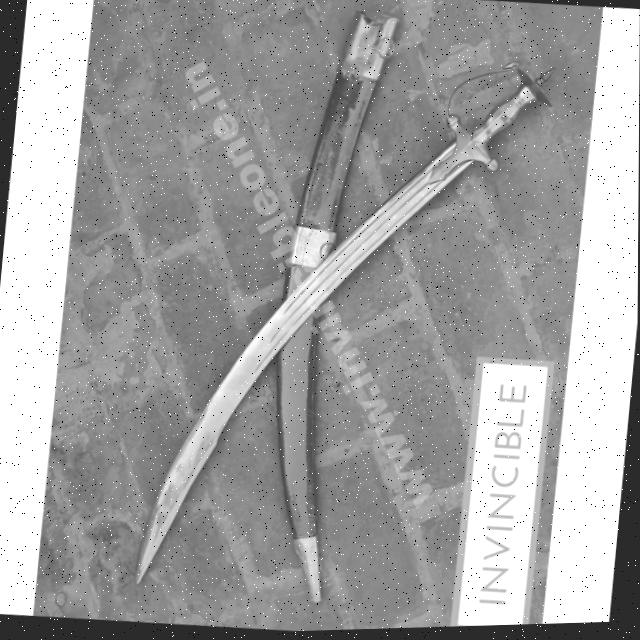knife: (128, 36, 540, 617), (252, 0, 381, 609)
